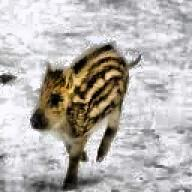boar: (29, 41, 141, 189)
